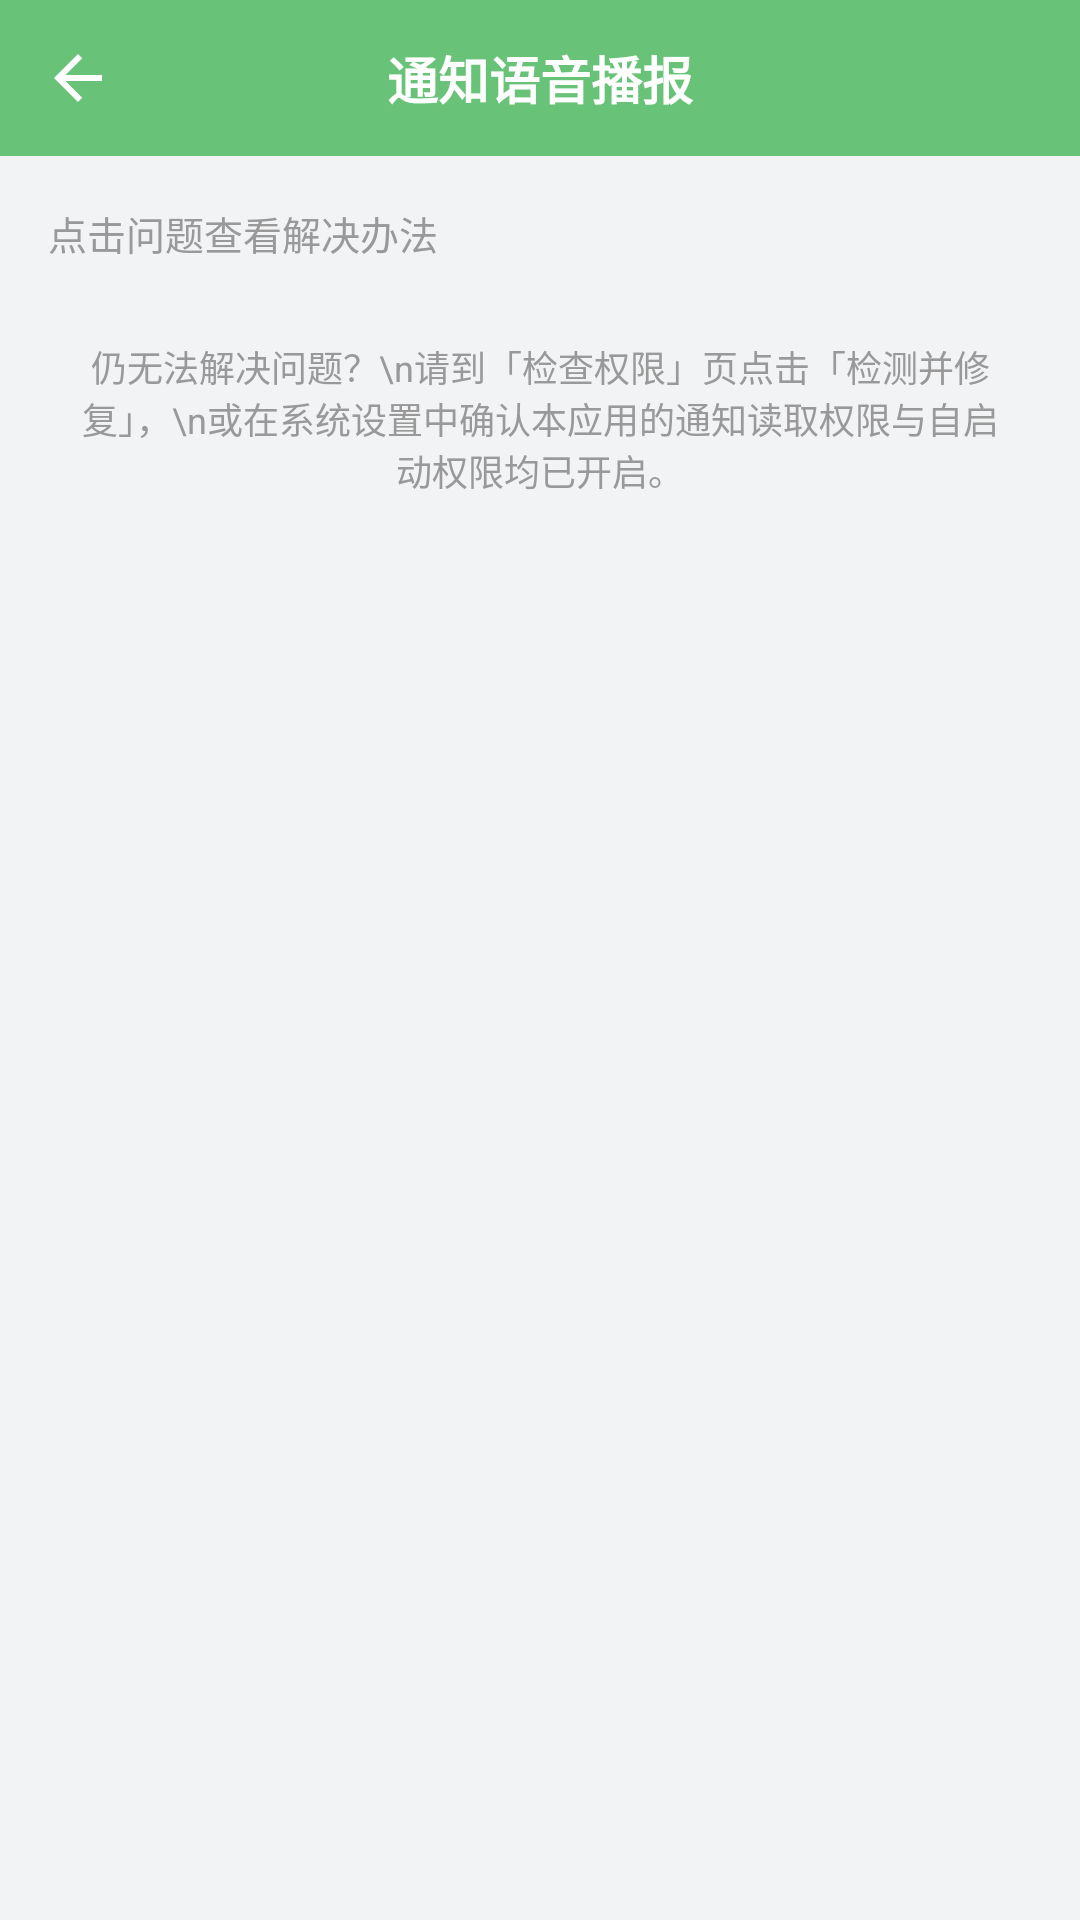

Icons on this 1080×1920 Android screen, each with its box as [x1, y1, x2, y2]:
back: [54, 54, 102, 102]
